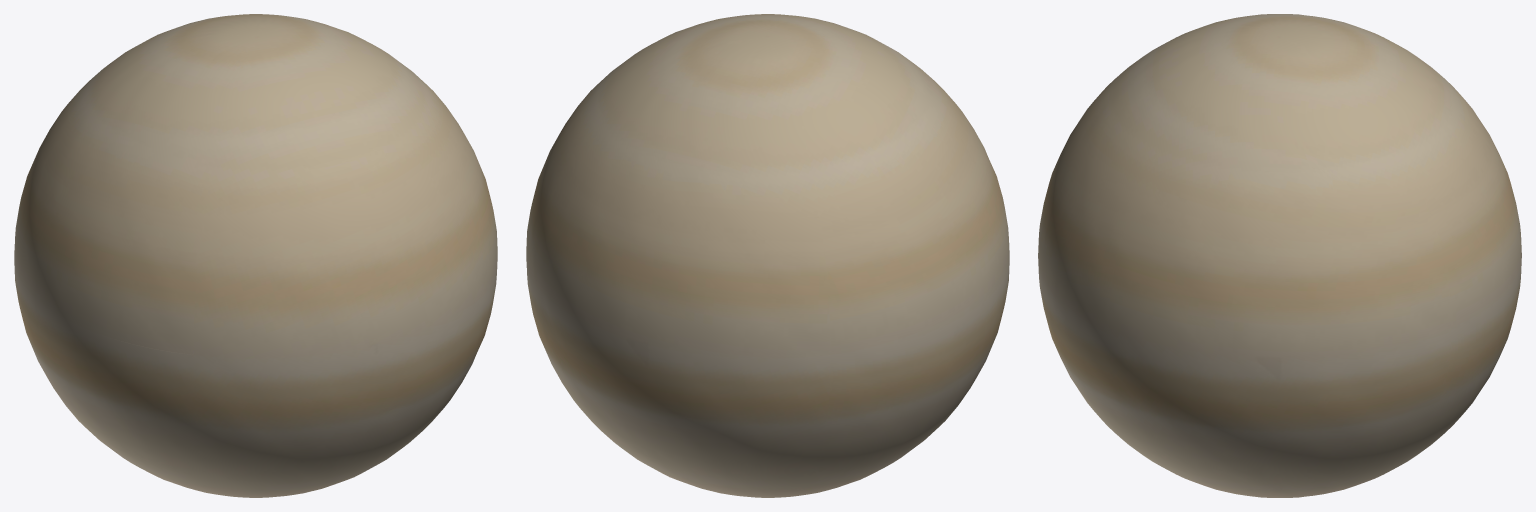
Rendered from saturn-body.glb.
3 renders of one model, left to right at view 1: azimuth 30°, elevation 25°; view 2: azimuth 150°, elevation 25°; view 3: azimuth 270°, elevation 25°, orthographic.
Parts seen in each view (by area): view 1: Saturn Atmospheric Body; view 2: Saturn Atmospheric Body; view 3: Saturn Atmospheric Body.
Boxes of the visible parts, left/top/right/bottom form: Saturn Atmospheric Body: left=14, top=14, right=497, bottom=497; Saturn Atmospheric Body: left=526, top=14, right=1009, bottom=497; Saturn Atmospheric Body: left=1038, top=14, right=1521, bottom=497.
Bounding box in the file's own units: 0.998 × 0.998 × 0.998.
Materials: 1 (1 with a texture image).
